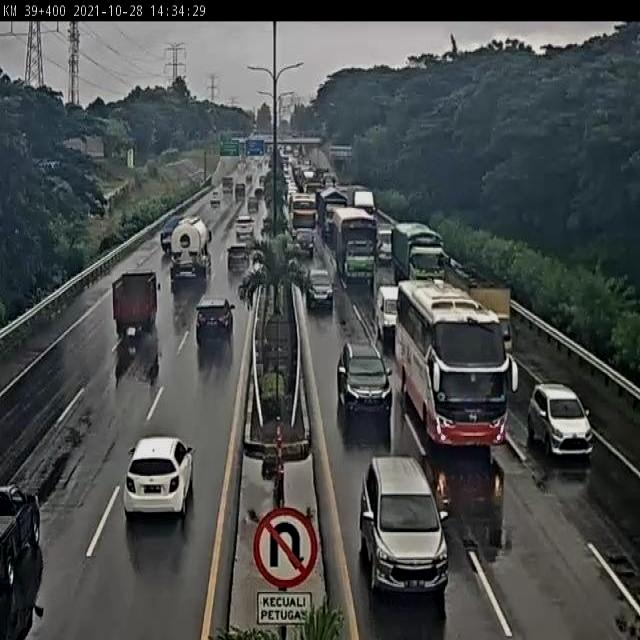Bus: (393, 276, 521, 449), (288, 192, 319, 243)
Car: (358, 454, 448, 597), (121, 437, 195, 515), (528, 383, 592, 457), (337, 341, 392, 416), (194, 296, 235, 344), (304, 267, 334, 310), (159, 215, 184, 253), (227, 244, 250, 273), (233, 213, 254, 240), (295, 226, 315, 254), (248, 195, 260, 214), (210, 189, 222, 207), (235, 183, 246, 201), (254, 187, 263, 200), (259, 174, 266, 186), (246, 172, 253, 183)
Truck: (442, 258, 514, 358), (0, 478, 42, 590), (389, 218, 447, 285), (332, 205, 378, 288), (113, 270, 158, 338), (170, 216, 212, 283), (318, 187, 349, 243), (346, 184, 376, 216), (376, 221, 398, 263), (221, 174, 234, 194)
Van: (378, 284, 398, 342)
